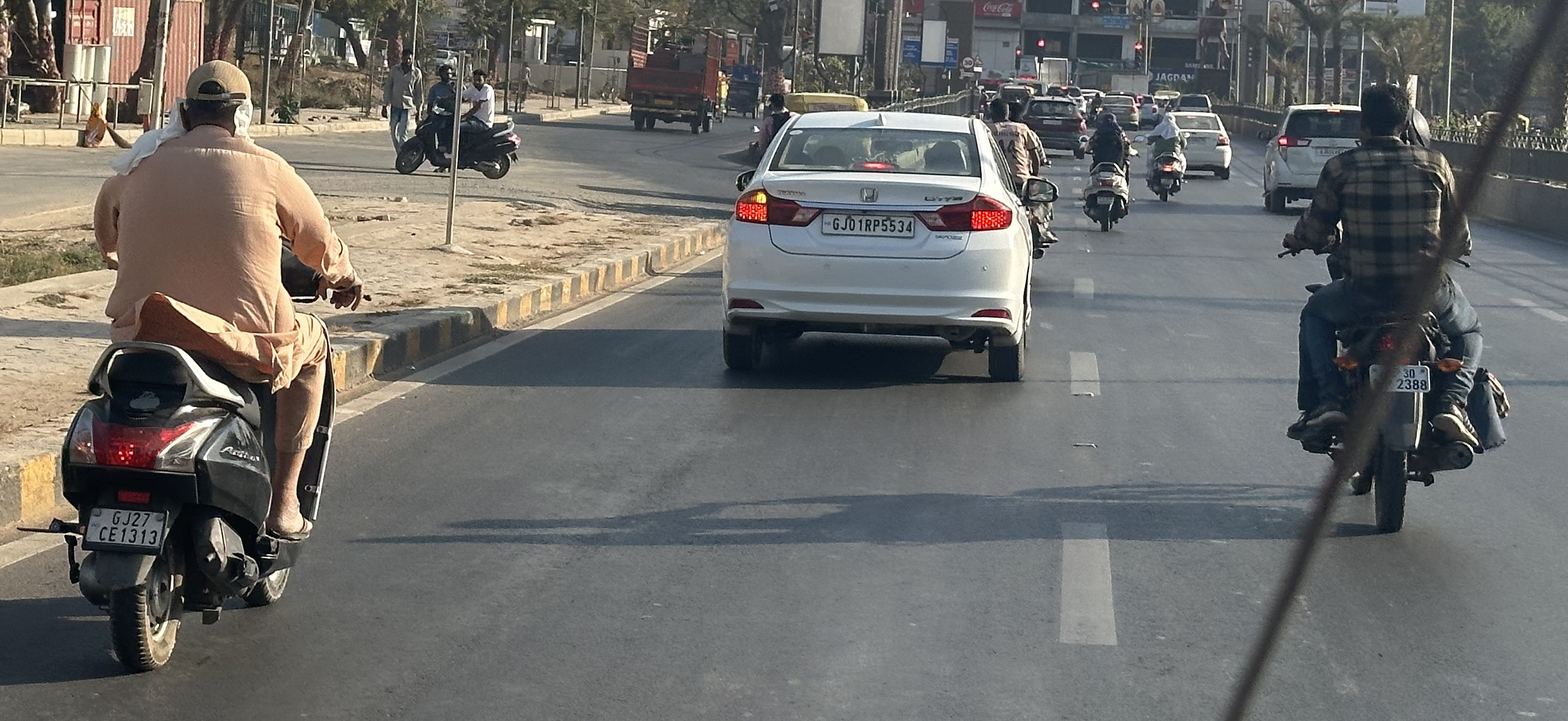BikeWithRider: (13, 52, 374, 680), (1265, 73, 1516, 544), (388, 63, 537, 186), (1072, 109, 1144, 236), (1144, 106, 1199, 206)
NoHelmet: (166, 53, 265, 152), (1345, 78, 1424, 150)
